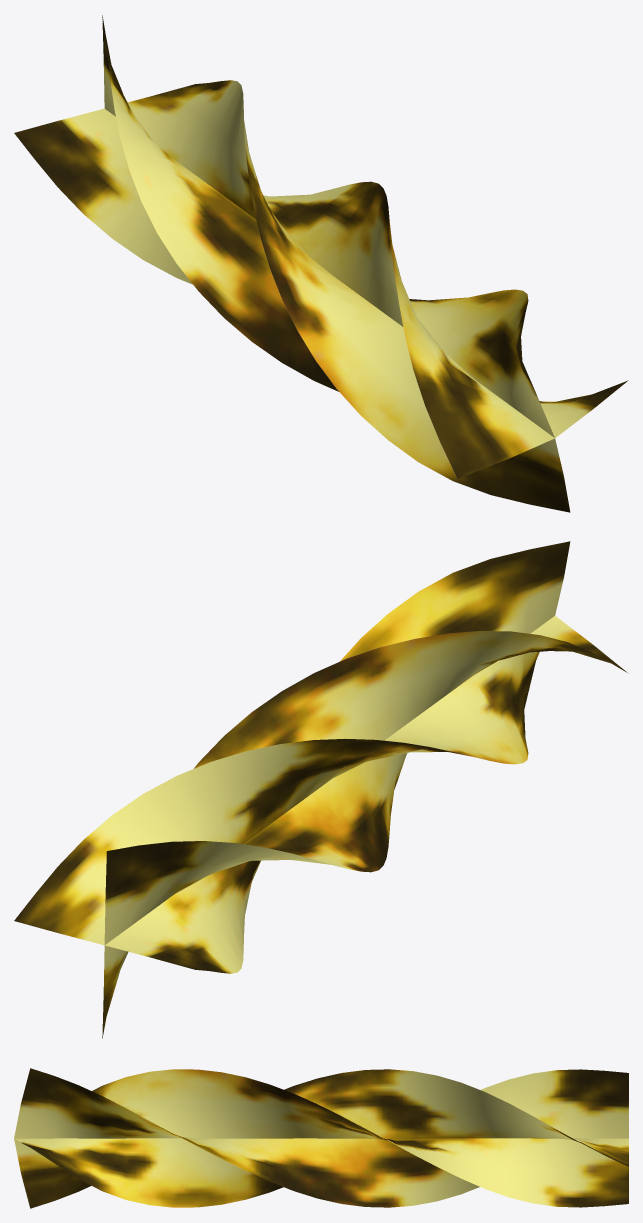
3 renders of one model, top to bottom at view 1: azimuth 30°, elevation 25°; view 2: azimuth 150°, elevation 25°; view 3: azimuth 270°, elevation 25°, orthographic. The views are drawn at different scales.
Visible parts, largest first — view 1: mesh00; view 2: mesh00; view 3: mesh00.
Part boxes in pixels (left/top/right/bottom): mesh00: left=14, top=15, right=628, bottom=512; mesh00: left=14, top=541, right=628, bottom=1038; mesh00: left=14, top=1068, right=628, bottom=1208.
Size of the model in its own units: 382 by 382 by 1644.
1 material, 1 textured.
